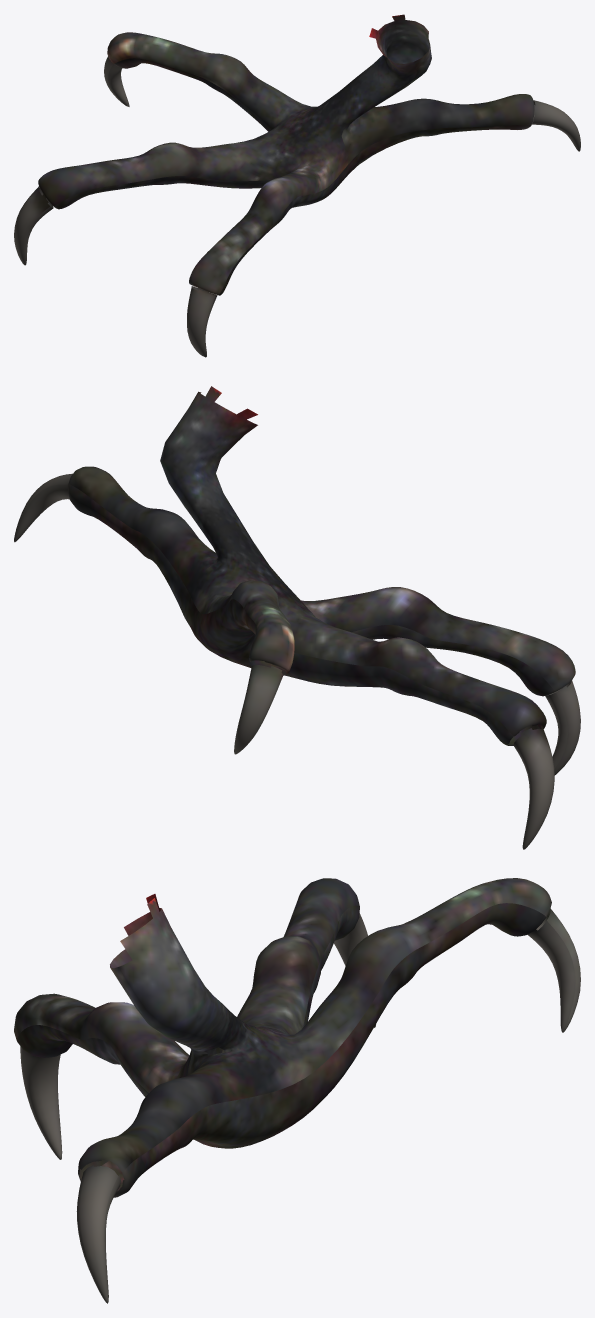
The picture shows the model from 3 angles, top to bottom: view 1: azimuth 30°, elevation 25°; view 2: azimuth 150°, elevation 25°; view 3: azimuth 270°, elevation 25°; orthographic projection. The views are drawn at different scales.
Visible parts, largest first — view 1: 12212_Bird_v1_l2.001; view 2: 12212_Bird_v1_l2.001; view 3: 12212_Bird_v1_l2.001.
Part boxes in pixels (<box>): 12212_Bird_v1_l2.001: <box>14,14,580,357</box>; 12212_Bird_v1_l2.001: <box>14,386,580,849</box>; 12212_Bird_v1_l2.001: <box>14,878,580,1303</box>.
Size of the model in its own units: 1.39 by 0.7316 by 0.868.
Materials: 1 (1 with a texture image).
